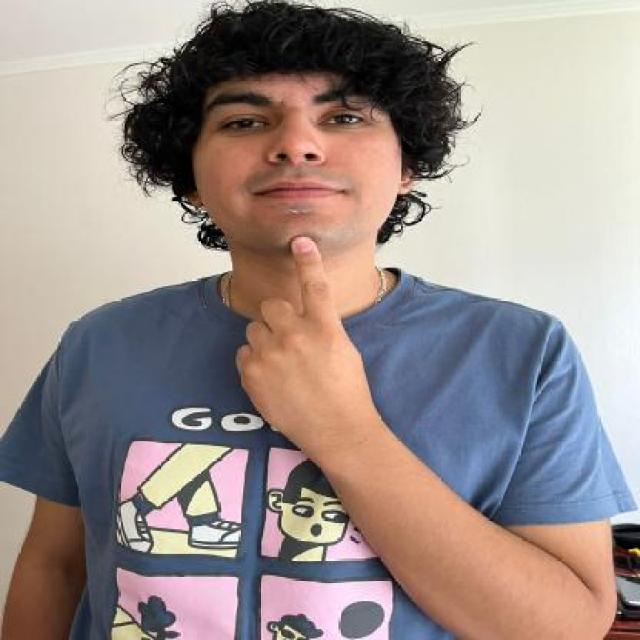T: (229, 230, 360, 432)
